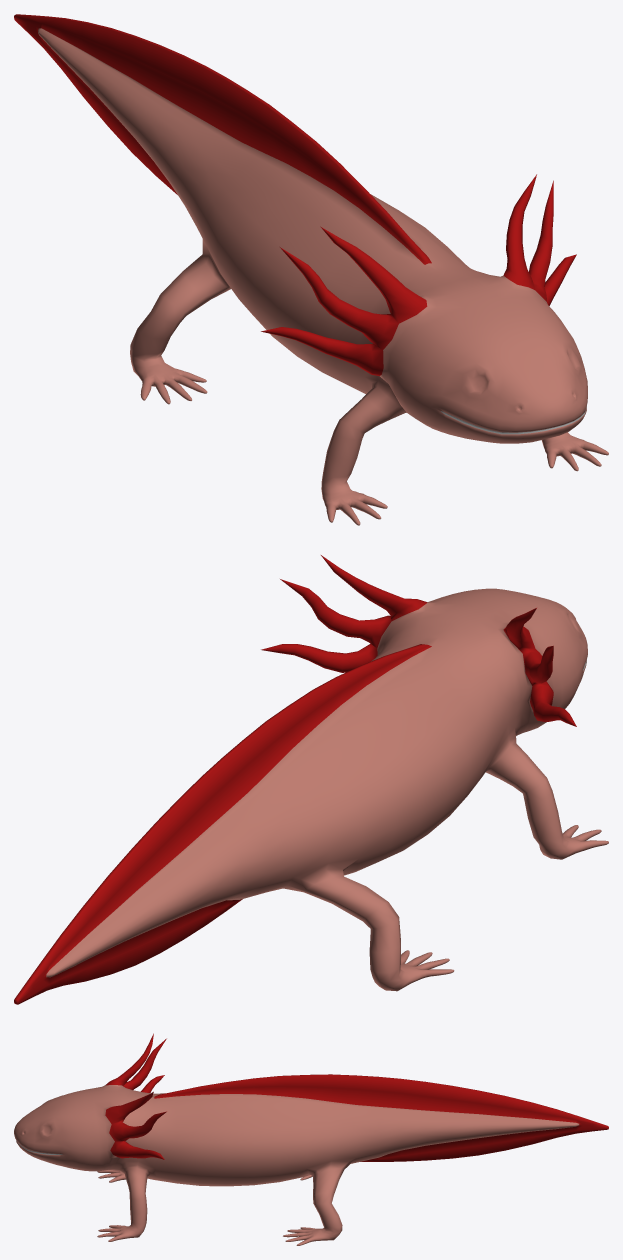
Rendered from axolotl_axolotl.obj.
3 views of the same model, one above another, from view 1: azimuth 30°, elevation 25°; view 2: azimuth 150°, elevation 25°; view 3: azimuth 270°, elevation 25° (orthographic). The views are drawn at different scales.
Visible parts, largest first — view 1: axolotl; view 2: axolotl; view 3: axolotl.
Part boxes in pixels (box(x1,y1,x2,y2)): axolotl: box(14, 14, 608, 525); axolotl: box(14, 555, 608, 1004); axolotl: box(14, 1033, 608, 1245).
Bounding box in the file's own units: 0.0823 × 0.0644 × 0.243.
